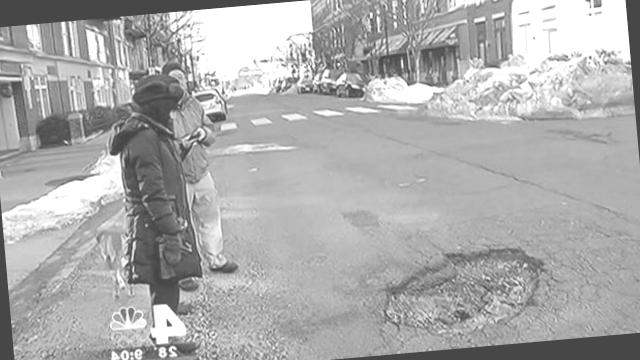Pothole: (354, 227, 551, 343)
